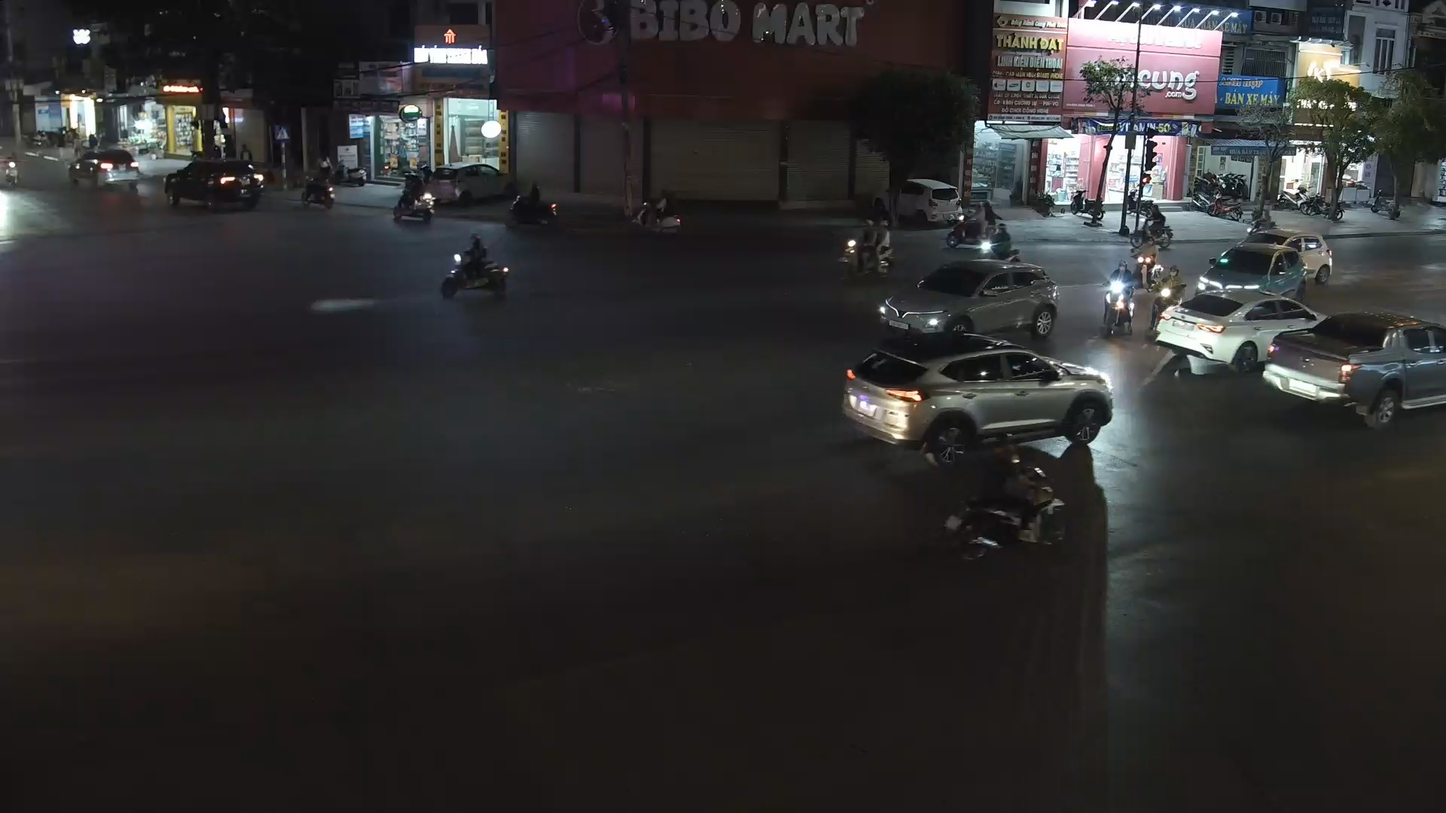car: (841, 333, 1115, 467), (1262, 309, 1445, 429), (876, 254, 1063, 347), (1151, 285, 1324, 380), (1198, 237, 1312, 302), (163, 159, 264, 213)
motorbike: (946, 433, 1113, 573), (437, 230, 513, 303), (506, 177, 560, 231), (390, 170, 437, 226)
